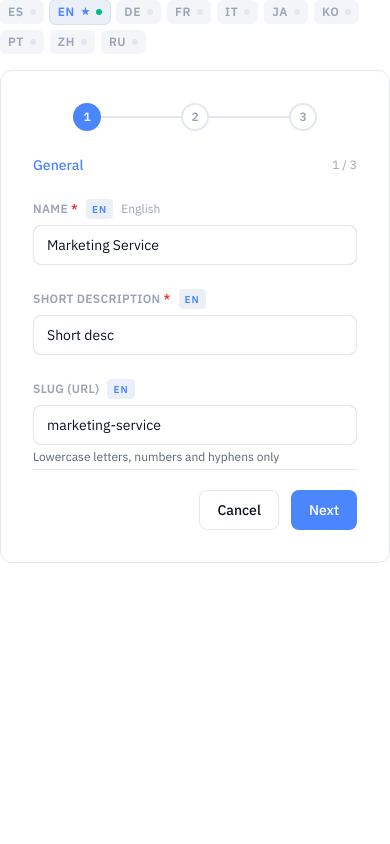
Test case: ServiceForm — AI translation suggestion › applies a successful suggestion to the currently edited tab and shows an info toast
Click the button "de". click: x=139, y=12
box: [116,0,161,24]
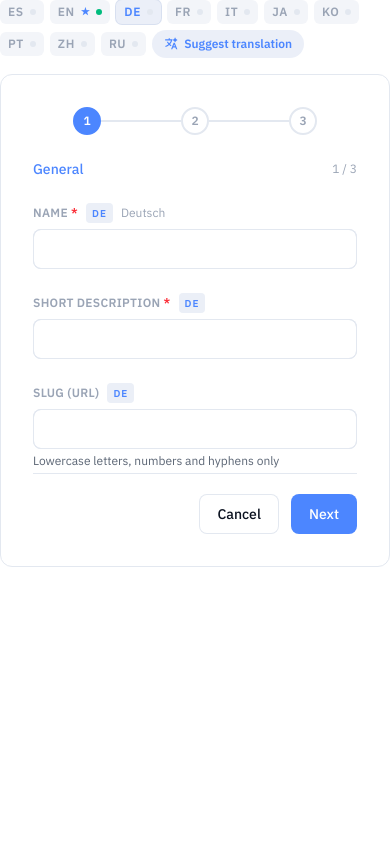
Click the button "Suggest translation". click: x=228, y=44
box: [152,30,304,58]
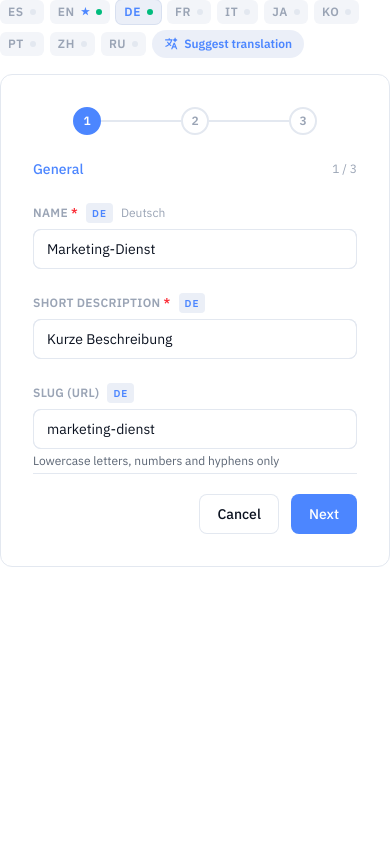
expect the field named "name.de" below "Name" holds "Marketing-Dienst": met, box [33,229,357,269]
expect the field named "shortDescription.de" below "Short description" holds "Kurze Beschreibung": met, box [33,319,357,359]
